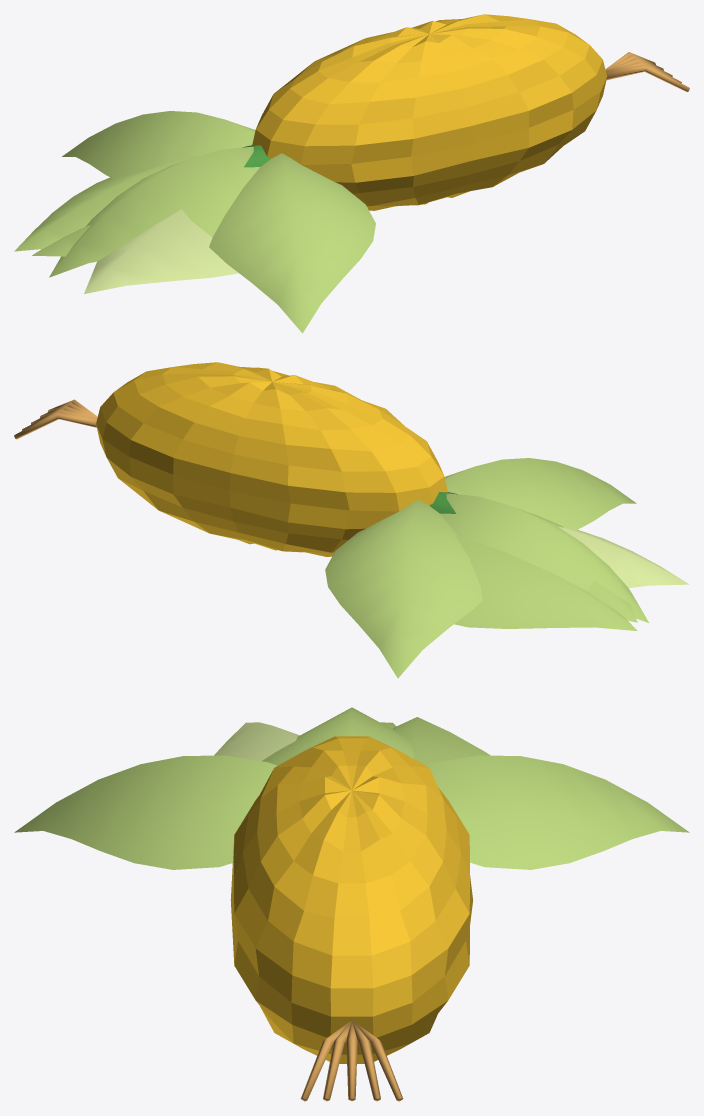
File: milho.glb
3 views of the same model, one above another, from view 1: azimuth 30°, elevation 25°; view 2: azimuth 150°, elevation 25°; view 3: azimuth 270°, elevation 25° (orthographic). The views are drawn at different scales.
Visible parts, largest first — view 1: milho; view 2: milho; view 3: milho.
Boxes of the visible parts, x1,y1,x2,y2 form: milho: (14, 14, 689, 333); milho: (14, 362, 689, 678); milho: (14, 707, 689, 1101).
Size of the model in its own units: 0.5511 by 0.1352 by 0.3625.
